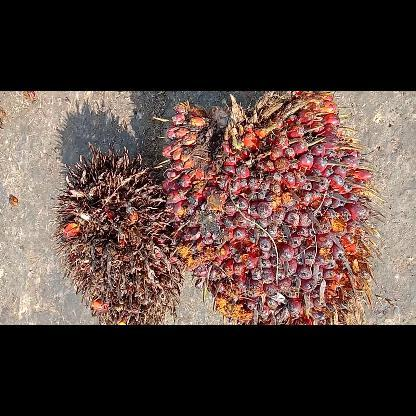TBS masak: (159, 90, 385, 322)
Terlalu masak: (52, 142, 184, 324)
